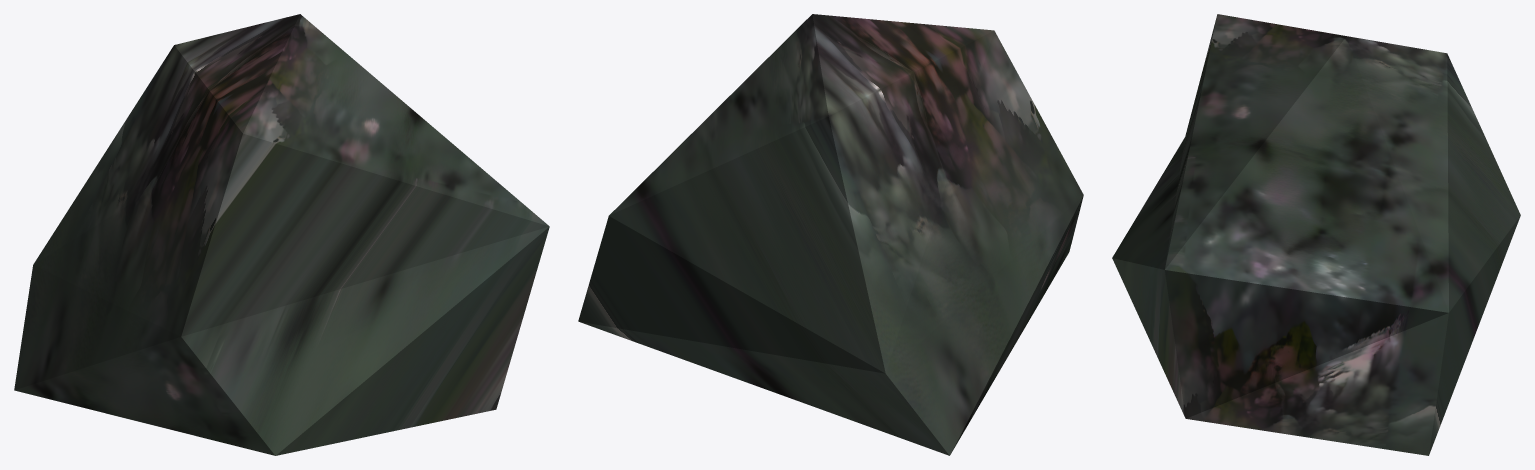
The model's file is TheOctagon_Floor_0_Rock_2.gltf.
3 renders of one model, left to right at view 1: azimuth 30°, elevation 25°; view 2: azimuth 150°, elevation 25°; view 3: azimuth 270°, elevation 25°, orthographic. The views are drawn at different scales.
Parts seen in each view (by area): view 1: TheOctagon_Floor_0_Rock_2; view 2: TheOctagon_Floor_0_Rock_2; view 3: TheOctagon_Floor_0_Rock_2.
Part boxes in pixels (bbox=[...]): TheOctagon_Floor_0_Rock_2: bbox=[14, 14, 549, 455]; TheOctagon_Floor_0_Rock_2: bbox=[578, 14, 1083, 455]; TheOctagon_Floor_0_Rock_2: bbox=[1112, 14, 1520, 455].
Bounding box in the file's own units: 4.67 × 3.92 × 4.19.
1 material, 1 textured.
